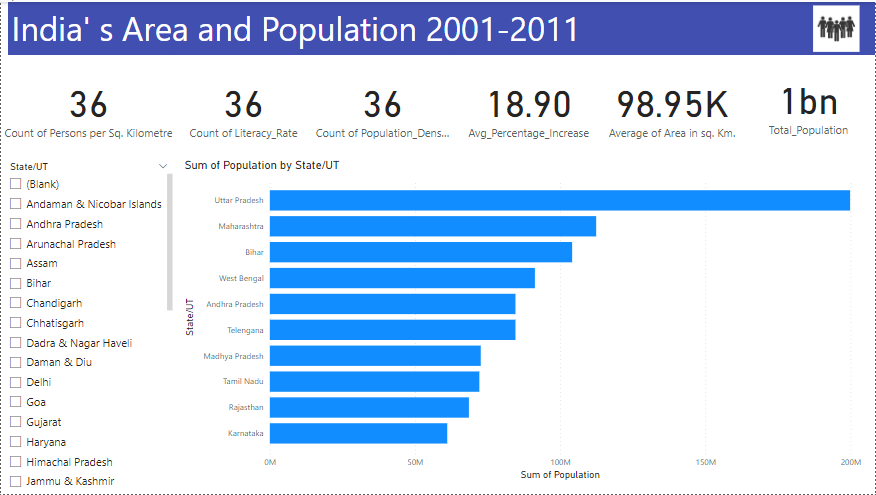

Layout of this report page (visuals, bound fields, positions):
{"tool":"powerbi","page":{"name":"Area_and_Population","canvas":[1280,720],"ordinal":0},"visuals":[{"type":"textbox","box":[10.2,0,1270.2,77.6],"z":0},{"type":"image","box":[1163.4,0,117.1,77.6],"z":1000},{"type":"card","fields":{"Values":["CountNonNull(Area_and_Population_in_Various_.Persons per Sq. Kilometre)"]},"box":[0,77.6,256.1,150.7],"z":2000},{"type":"card","fields":{"Values":["CountNonNull(Area_and_Population_in_Various_.Literacy_Rate)"]},"box":[256.1,77.6,197.6,150.7],"z":3000},{"type":"card","fields":{"Values":["CountNonNull(Area_and_Population_in_Various_.Population_Density)"]},"box":[453.7,77.6,209.3,150.7],"z":4000},{"type":"card","fields":{"Values":["Area_and_Population_in_Various_.Avg_Percentage_Increase"]},"box":[662.9,77.6,218,150.7],"z":5000},{"type":"card","fields":{"Values":["Avg(Area_and_Population_in_Various_.Area in sq. Km.)"]},"box":[881,77.6,202,150.7],"z":6000},{"type":"slicer","fields":{"Values":["Area_and_Population_in_Various_.State/UT"]},"box":[0,228.3,256.1,491.7],"z":7000},{"type":"clusteredBarChart","fields":{"Category":["Area_and_Population_in_Various_.State/UT"],"Y":["Sum(Area_and_Population_in_Various_.Population)"]},"box":[263.4,228.3,1001,475.6],"z":8000},{"type":"card","fields":{"Values":["Area_and_Population_in_Various_.Total_Population"]},"box":[1082.9,77.6,197.6,142],"z":9000}]}

Visuals, with their boxes in screenshot pixels (x1, y1, x2, y2), scaled from the page's 1280x720 canvas onto the 876x495 screenshot:
textbox: (left=7, top=0, right=875, bottom=53)
image: (left=796, top=0, right=875, bottom=53)
card - CountNonNull(Area_and_Population_in_Various_.Persons per Sq. Kilometre): (left=0, top=53, right=175, bottom=157)
card - CountNonNull(Area_and_Population_in_Various_.Literacy_Rate): (left=175, top=53, right=311, bottom=157)
card - CountNonNull(Area_and_Population_in_Various_.Population_Density): (left=311, top=53, right=454, bottom=157)
card - Area_and_Population_in_Various_.Avg_Percentage_Increase: (left=454, top=53, right=603, bottom=157)
card - Avg(Area_and_Population_in_Various_.Area in sq. Km.): (left=603, top=53, right=741, bottom=157)
slicer - Area_and_Population_in_Various_.State/UT: (left=0, top=157, right=175, bottom=494)
clusteredBarChart - Area_and_Population_in_Various_.State/UT x Sum(Area_and_Population_in_Various_.Population): (left=180, top=157, right=865, bottom=484)
card - Area_and_Population_in_Various_.Total_Population: (left=741, top=53, right=875, bottom=151)
